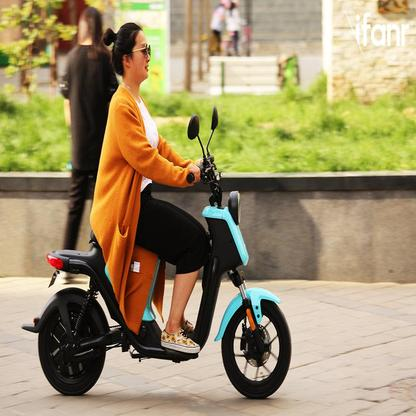target: (26, 22, 292, 401)
